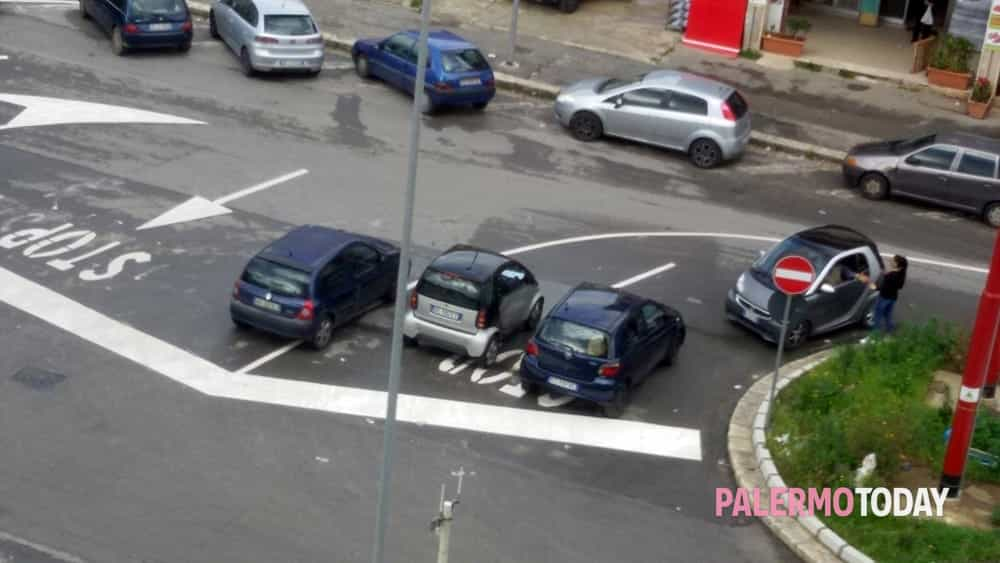car: (231, 224, 410, 352), (522, 282, 685, 418), (555, 68, 750, 168), (404, 245, 544, 367), (353, 29, 495, 113)
